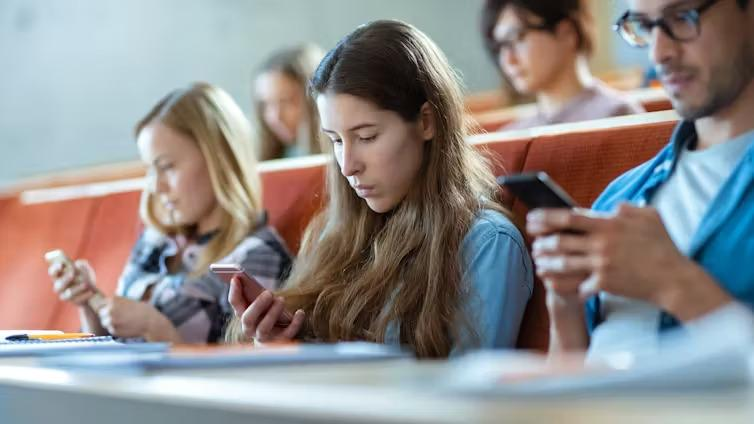phone: (212, 19, 527, 350), (497, 0, 754, 364), (41, 76, 292, 344)
